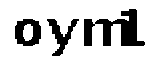1: (120, 9, 148, 48)
m: (81, 17, 127, 49)
o: (11, 17, 43, 49)
y: (45, 17, 79, 60)
